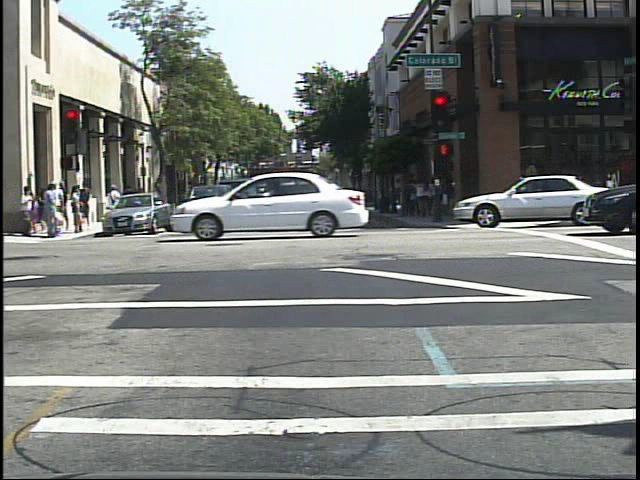person: (104, 179, 122, 228)
